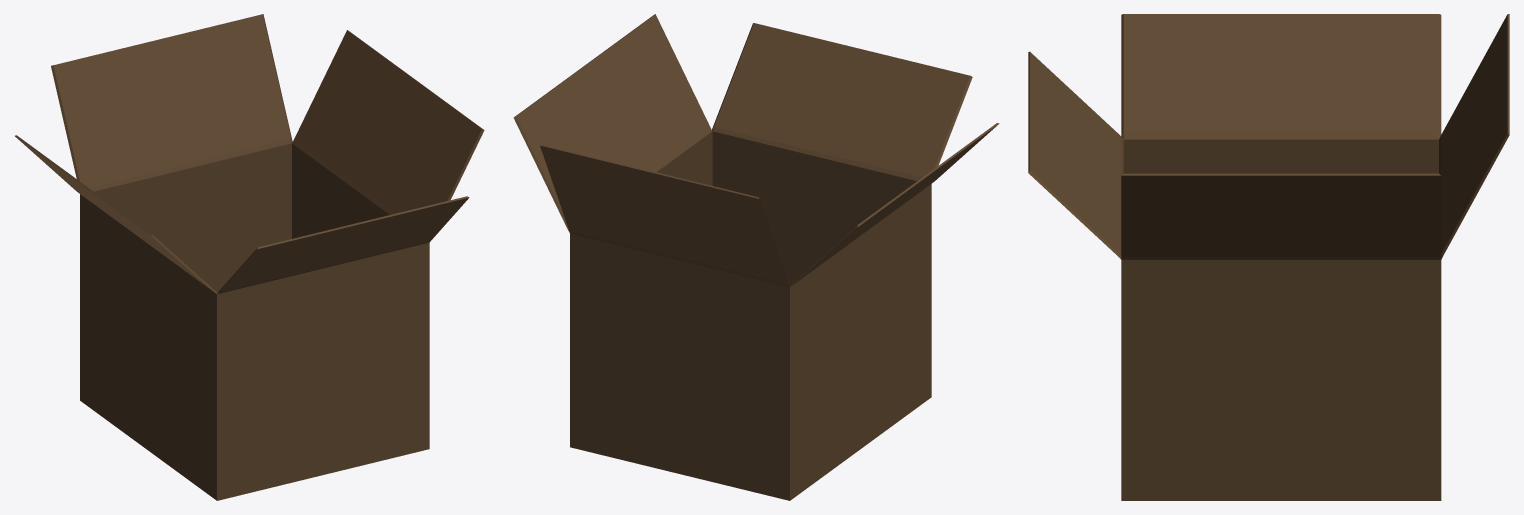
The model's file is Cardboard Box.fbx.
3 renders of one model, left to right at view 1: azimuth 30°, elevation 25°; view 2: azimuth 150°, elevation 25°; view 3: azimuth 270°, elevation 25°, orthographic. The views are drawn at different scales.
Visible parts, largest first — view 1: Box001; view 2: Box001; view 3: Box001.
Part boxes in pixels (x1=…): Box001: x1=15, y1=14, x2=484, y2=500; Box001: x1=513, y1=14, x2=999, y2=500; Box001: x1=1028, y1=14, x2=1509, y2=500.
Size of the model in its own units: 168 by 151 by 180.
